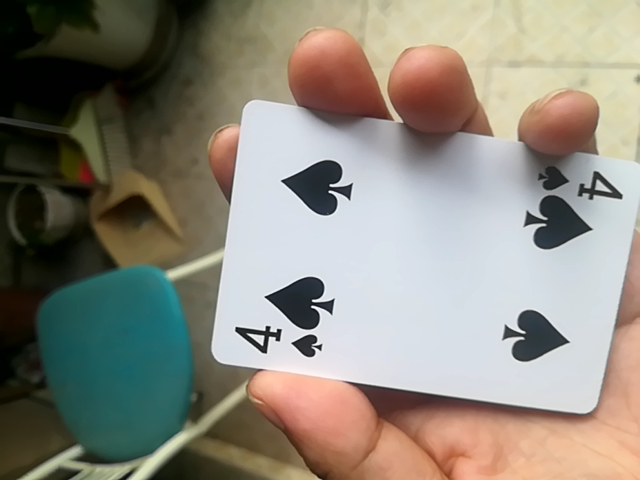ht 4: (209, 112, 632, 413)
